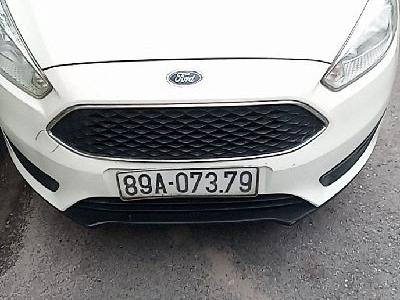car: (115, 166, 259, 202)
